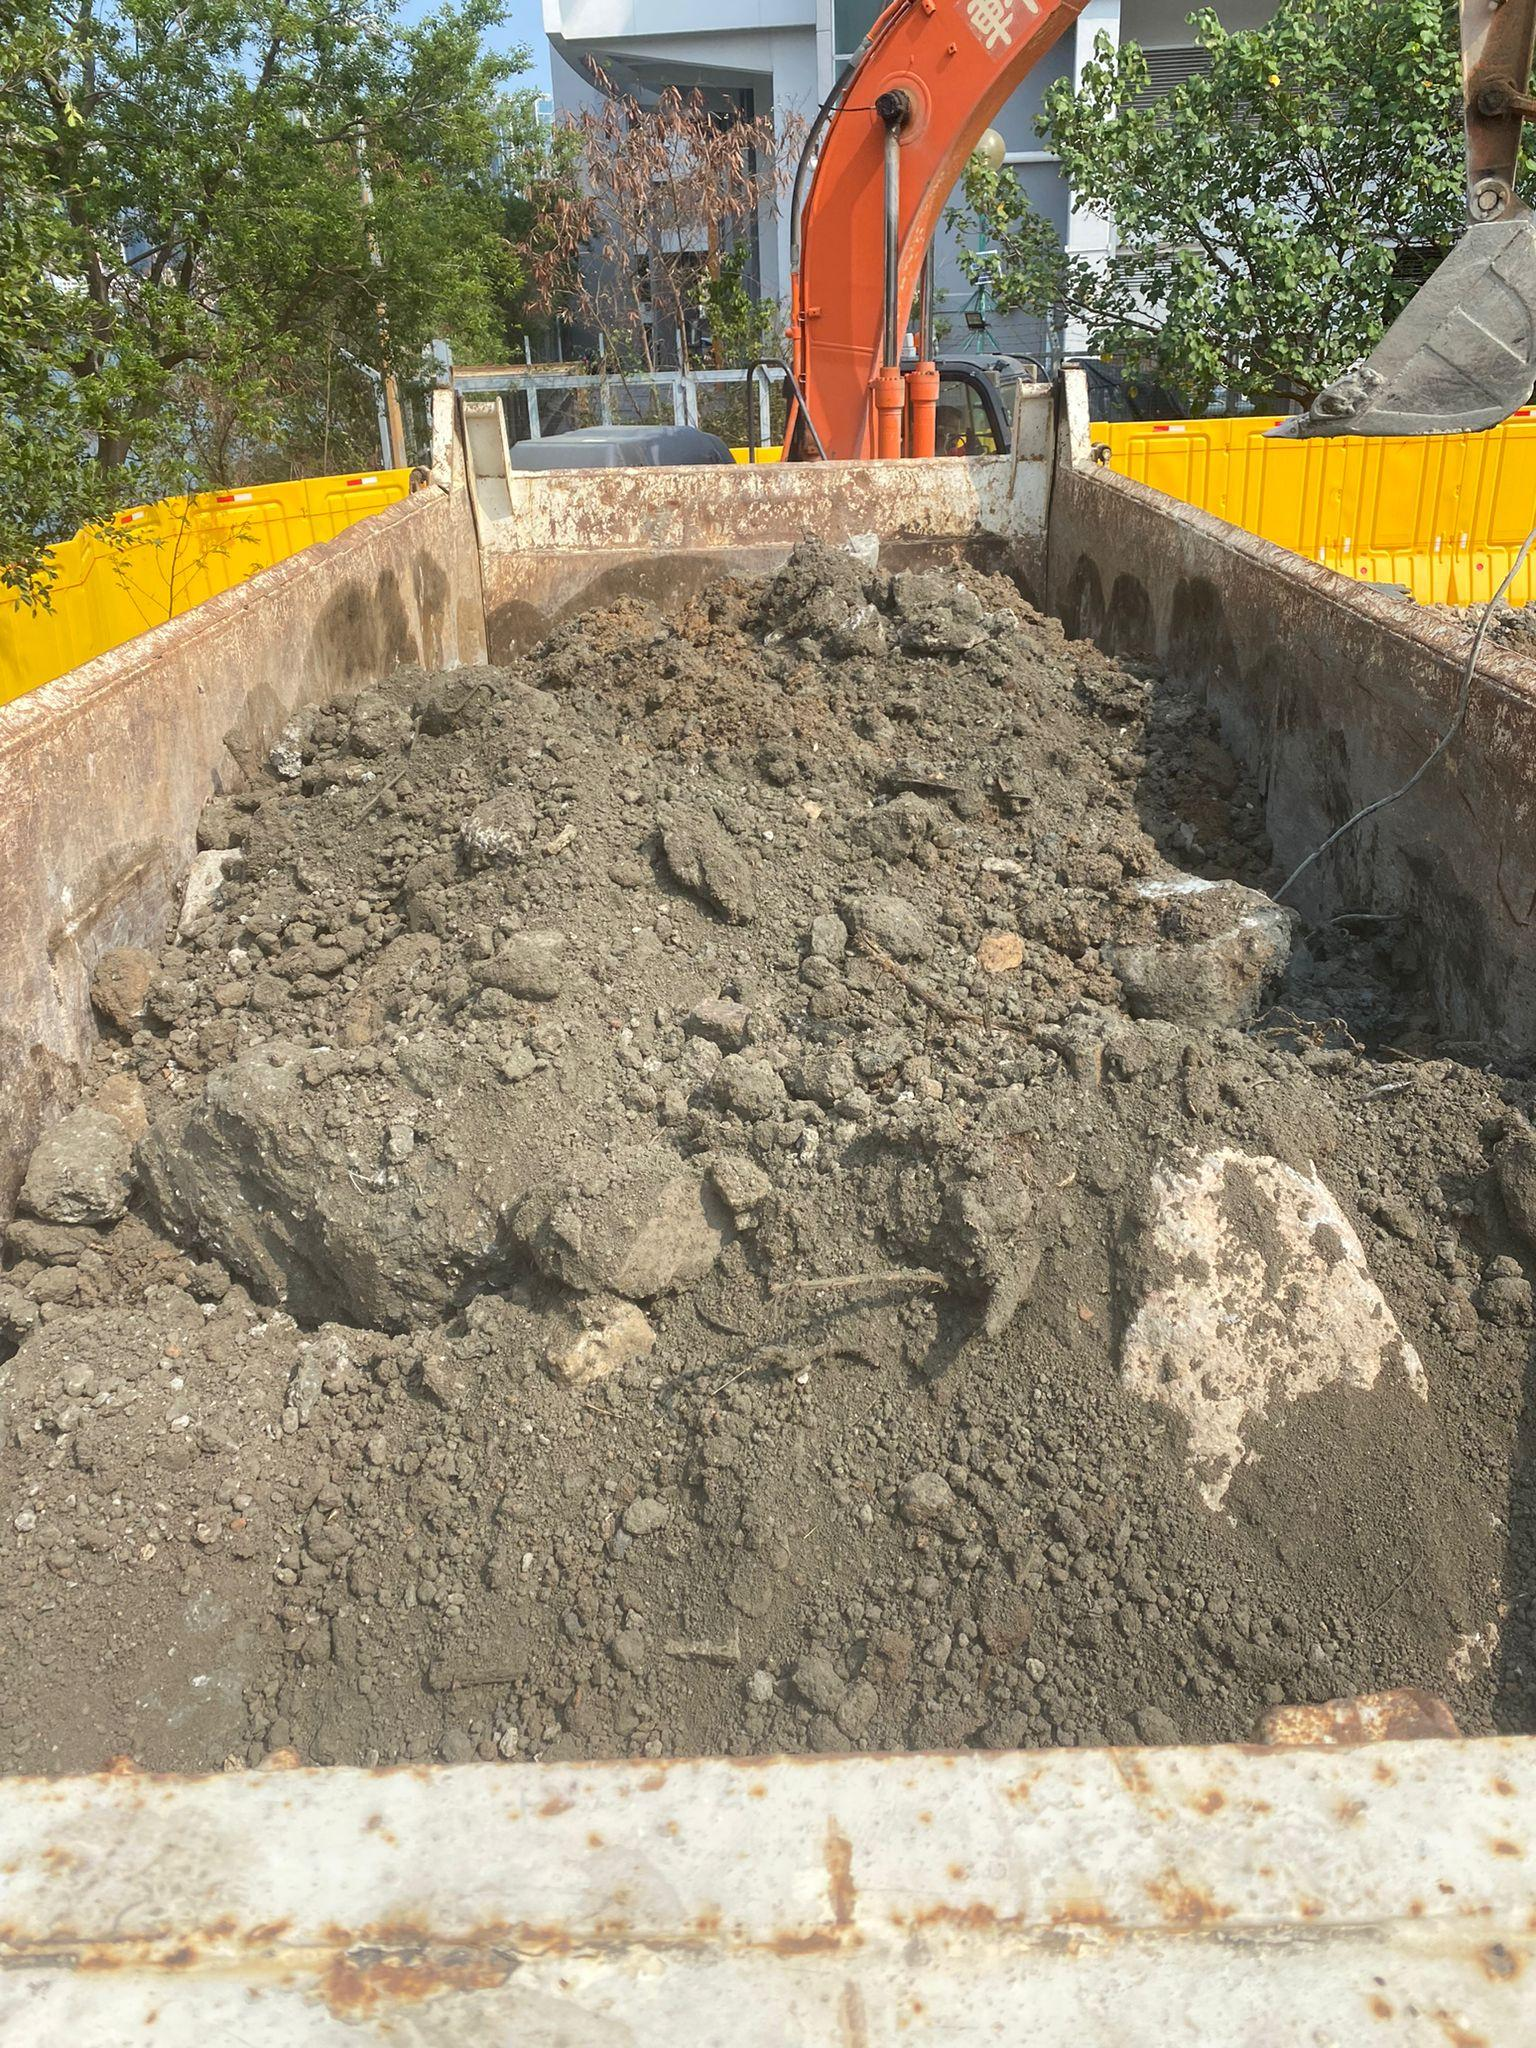dirt: (2, 537, 1533, 1772)
stone: (0, 1732, 1534, 2044)
